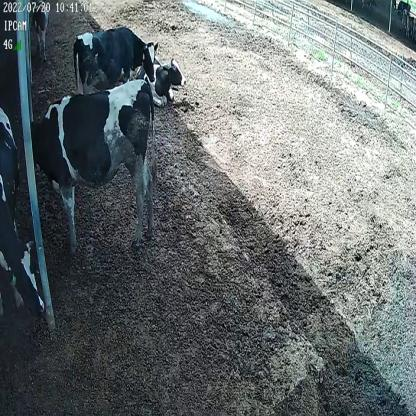cow: (32, 75, 158, 251), (0, 105, 46, 336), (72, 26, 160, 101), (149, 53, 188, 109)
